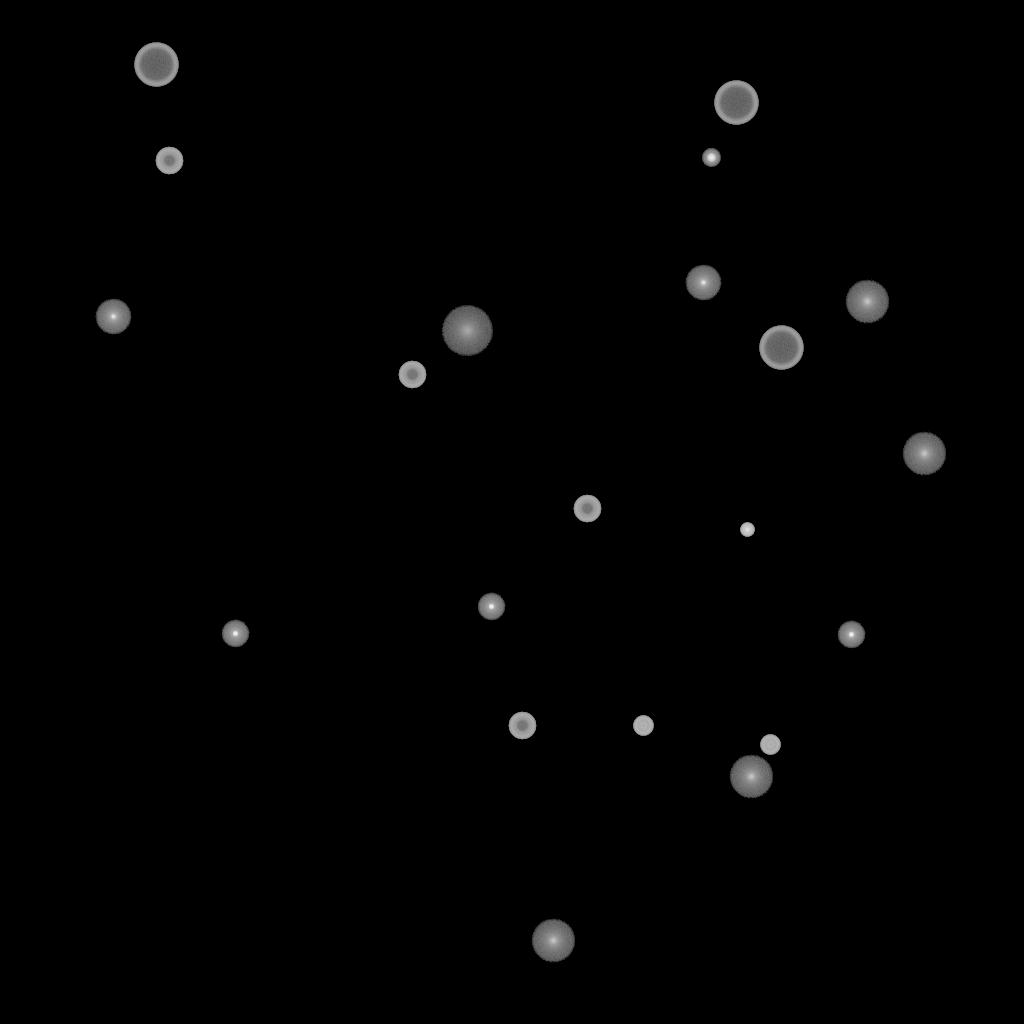depth:-10: (477, 593, 505, 621), (221, 620, 249, 648), (837, 621, 865, 649)
depth:-20: (702, 149, 720, 167)
depth:-30: (740, 523, 754, 537)
depth:-40: (633, 716, 653, 736), (760, 735, 780, 755)
depth:-50: (573, 495, 601, 523), (155, 147, 183, 175), (398, 361, 426, 389), (508, 712, 536, 740)
depth:-70: (759, 326, 803, 370), (134, 43, 178, 87), (714, 81, 758, 125)
depth:0: (685, 265, 721, 301), (95, 299, 131, 335)
depth:10: (531, 919, 575, 963), (902, 432, 946, 476), (845, 280, 889, 324), (729, 755, 773, 799)
depth:20: (441, 306, 493, 356)
